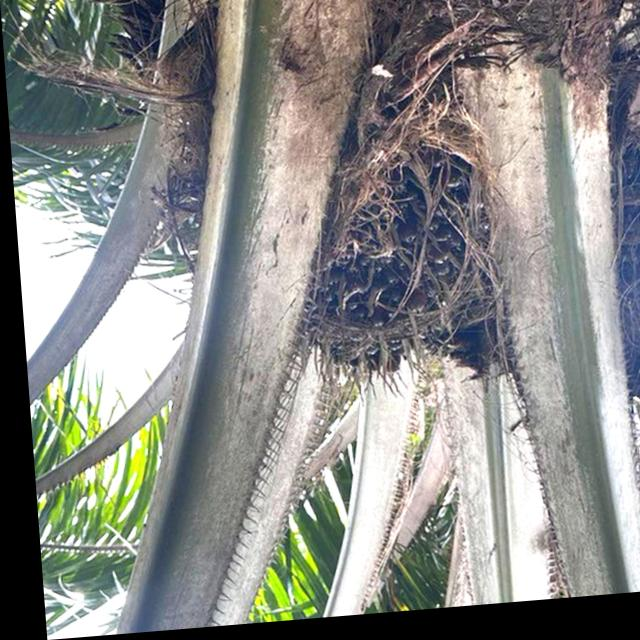ripe: (275, 163, 456, 390)
